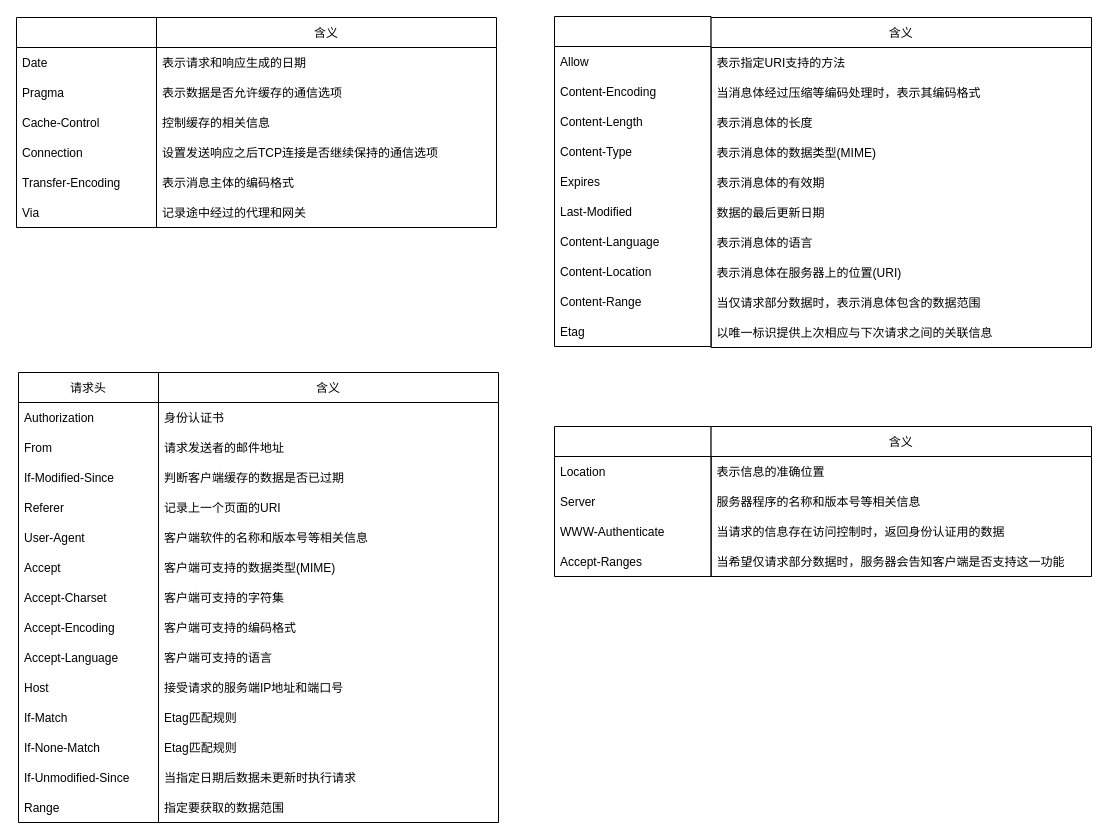
This 1108x839 diagram has some shape labels left out. The shapes that lost their labels are listed below. From the top down, each one's box as (x1, y1, x2, y2) in pixels, then its label:
(16, 16, 156, 228): 通用头
(554, 16, 711, 346): 实体头
(554, 426, 711, 576): 响应头
